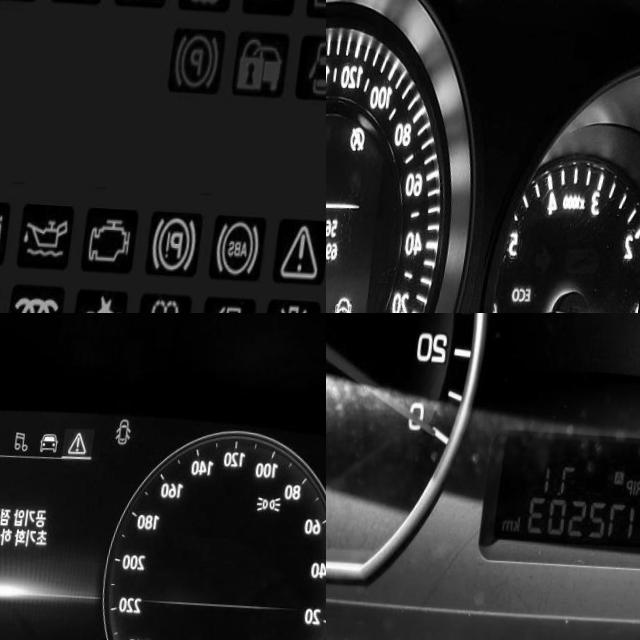Doors: (120, 412, 139, 441)
SideLamp: (263, 486, 290, 506)
